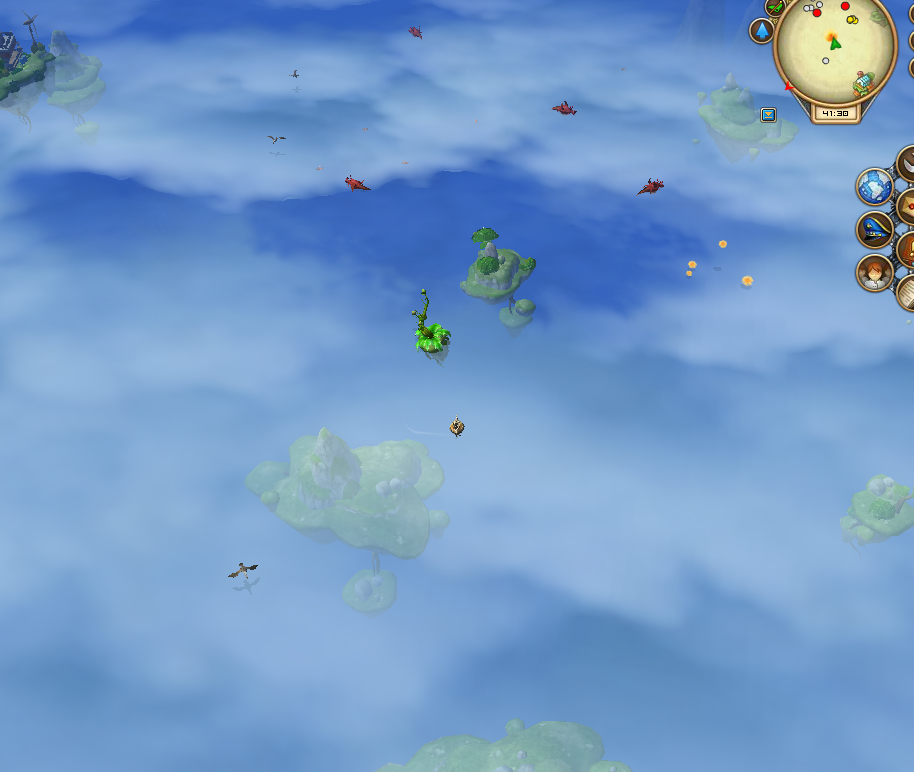dandelion-empty: (403, 282, 456, 367)
fluff: (738, 273, 755, 289), (715, 237, 731, 251), (686, 257, 698, 270), (685, 267, 692, 278)
